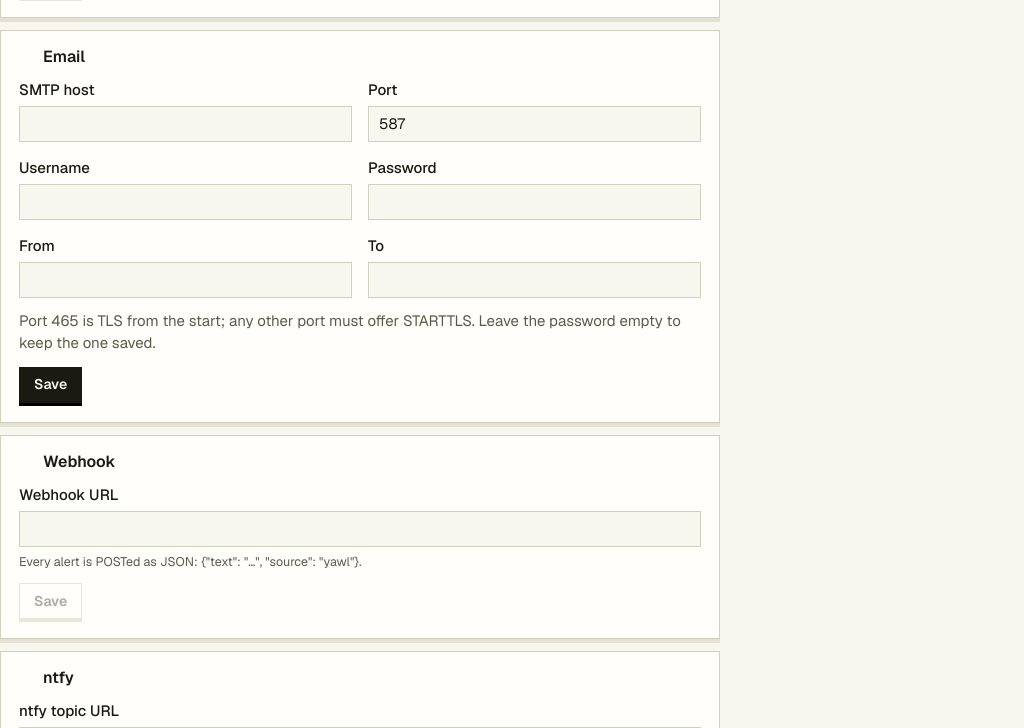
Notifications email saved › says Saved.
(page scrolled)
Click the button with aria-label "Save email".
click(51, 385)  # box x1=19 y1=367 x2=82 y2=403
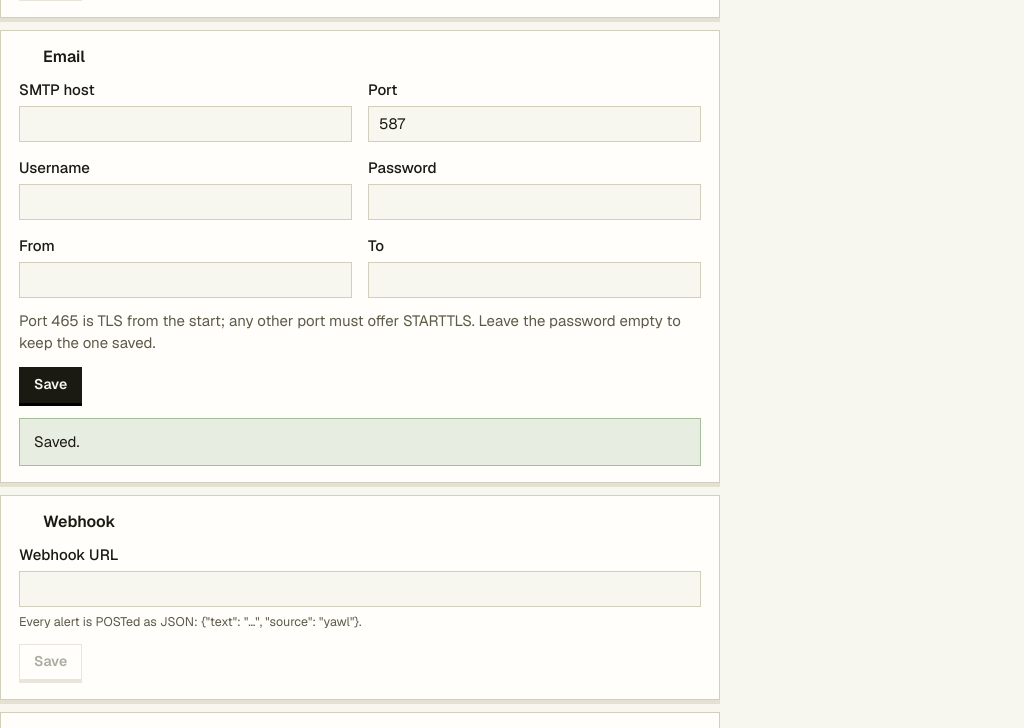
Expected: the text "Saved." is shown, x1=34 y1=432 x2=80 y2=451
